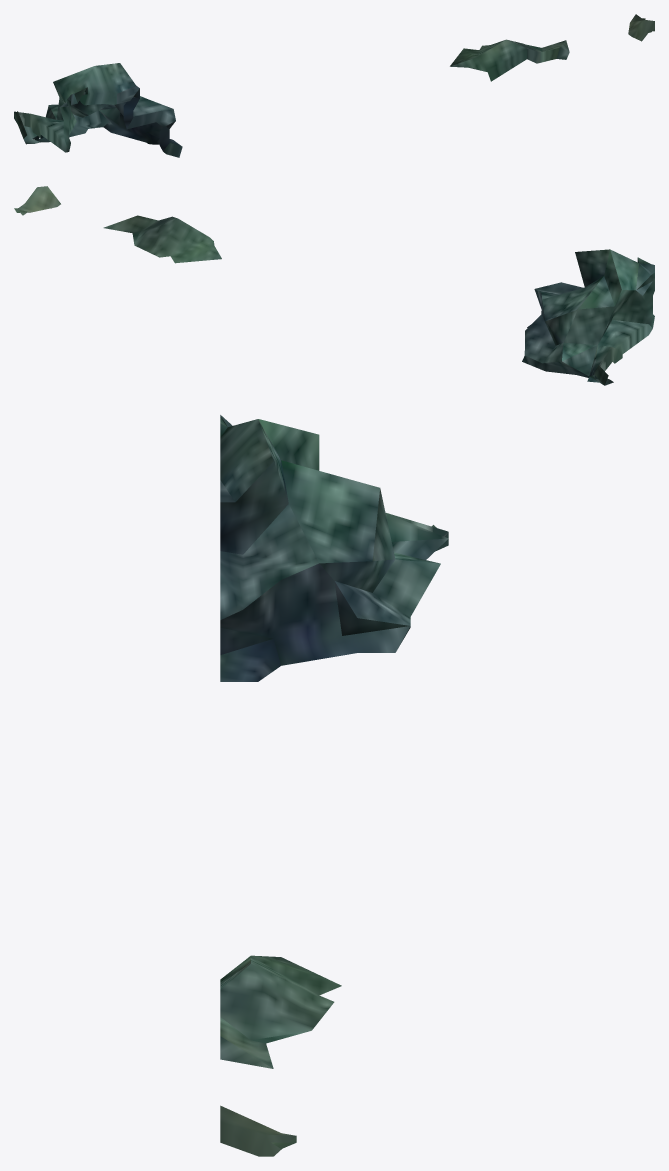
3 views of the same model, one above another, from view 1: azimuth 30°, elevation 25°; view 2: azimuth 150°, elevation 25°; view 3: azimuth 270°, elevation 25° (orthographic). The views are drawn at different scales.
Parts seen in each view (by area): view 1: 30436272704361514717_0; view 2: 30436272704361514717_0; view 3: 30436272704361514717_0.
Part boxes in pixels (x1,y1,x2,y2): 30436272704361514717_0: (14,14,654,157); 30436272704361514717_0: (14,186,654,385); 30436272704361514717_0: (220,415,448,1156).
Size of the model in its own units: 27.77 by 4.62 by 4.63.
Materials: 1 (1 with a texture image).
